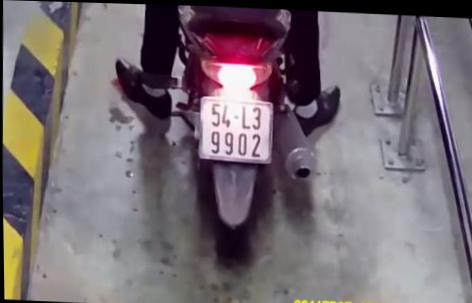LP: (197, 94, 276, 165)
